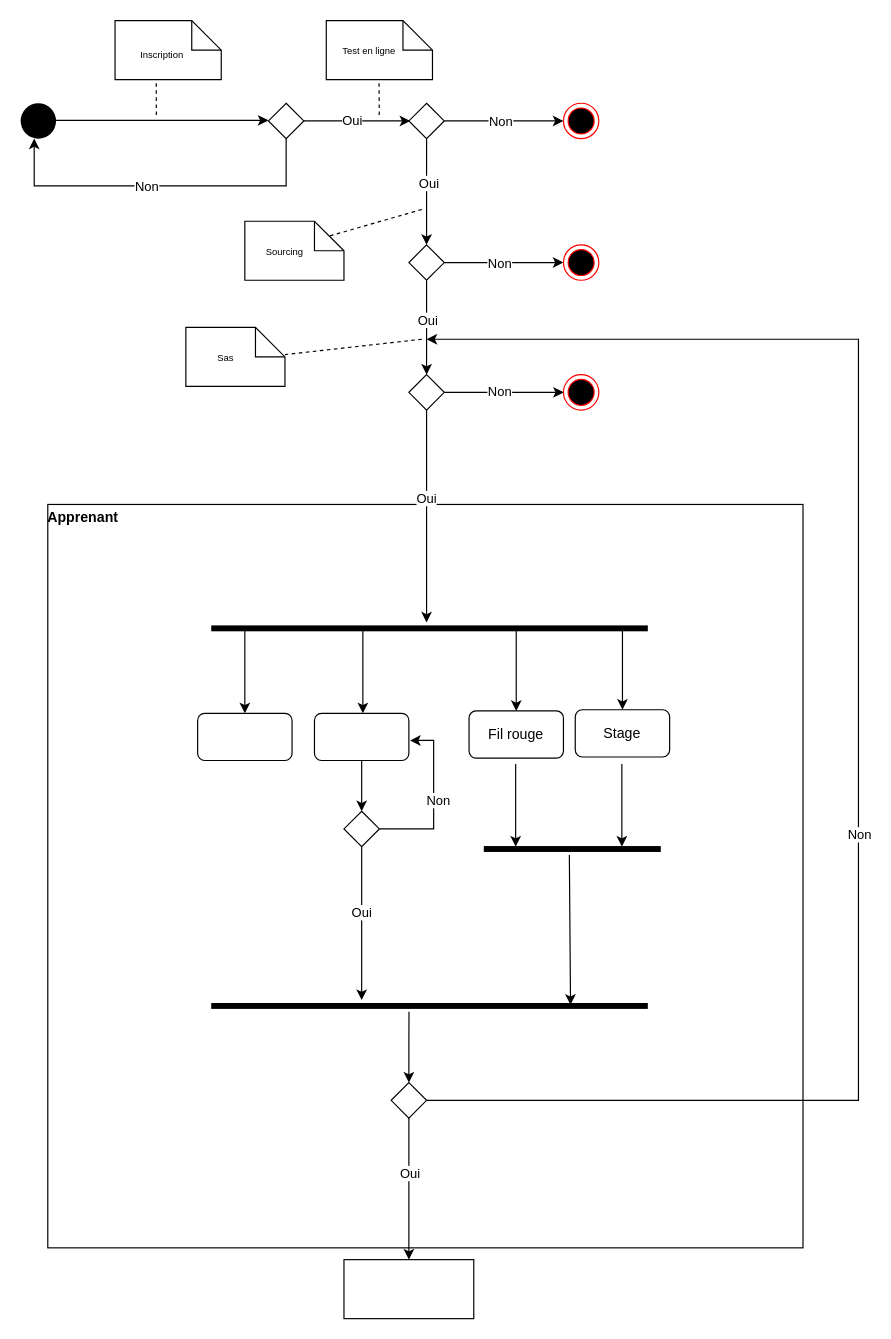
The diagram is 891 pixels wide and 1339 high, and some of its shapes have lost their labels. The shapes that lost their labels are listed below. From the top down, each one's box as (x1, y1, x2, y2) in pixels, then its label:
(196, 712, 292, 761): Sujet de veille
(313, 712, 409, 761): Briefs
(343, 1258, 474, 1319): Passage de deuxieme année
